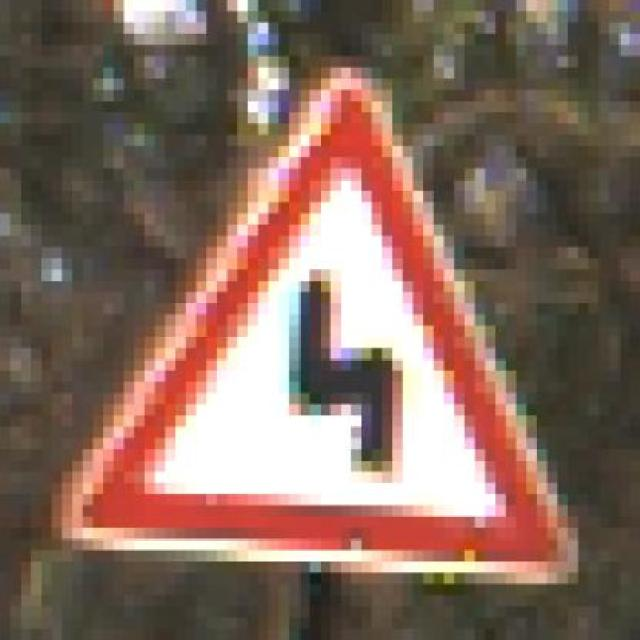Left Zig Zag Traffic: (51, 56, 588, 584)
